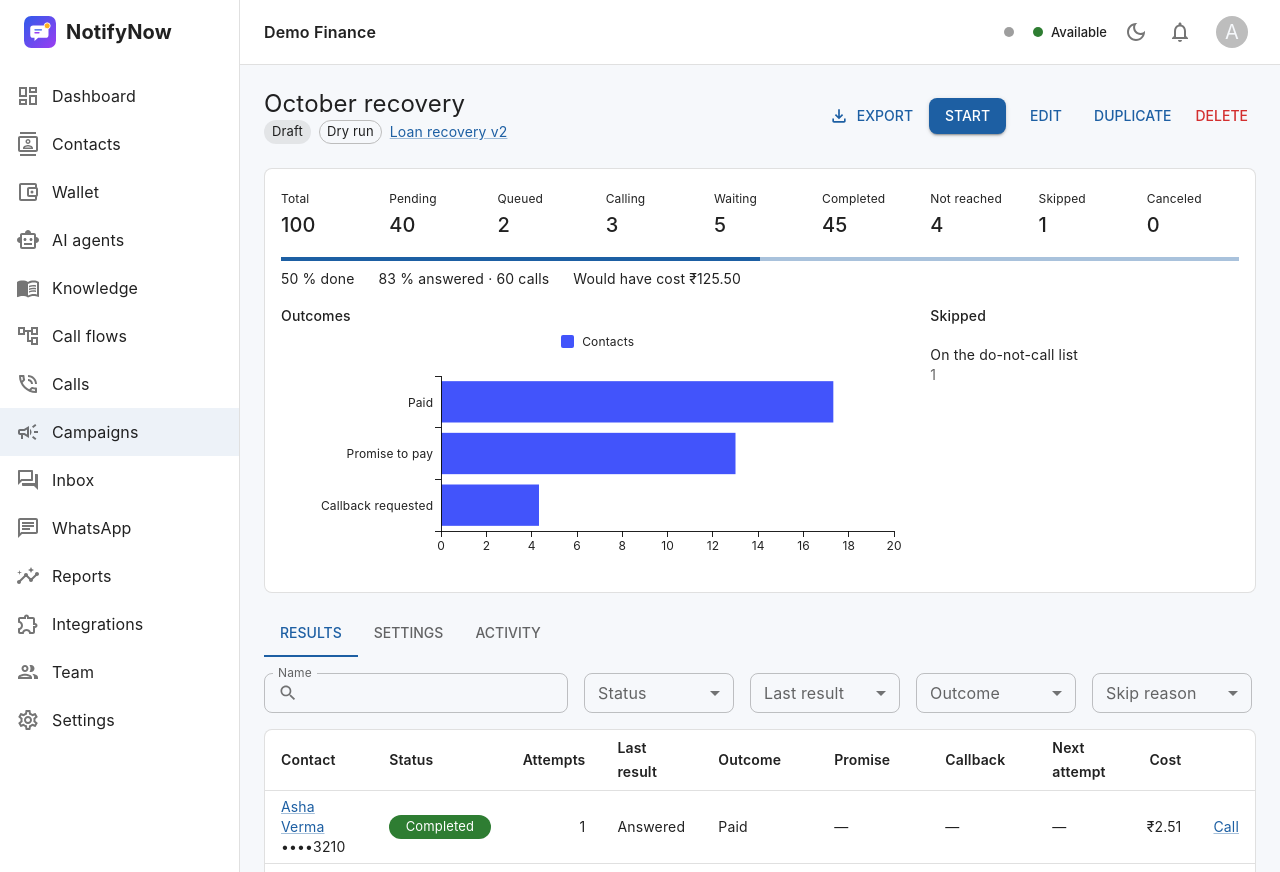
Test case: /campaigns/:id › a draft starts with an Idempotency-Key; delete asks first and goes back to the list
The width and height of the screenshot is (1280, 872).
Click the button "Start".
click(968, 116)  # box x1=929 y1=98 x2=1006 y2=134
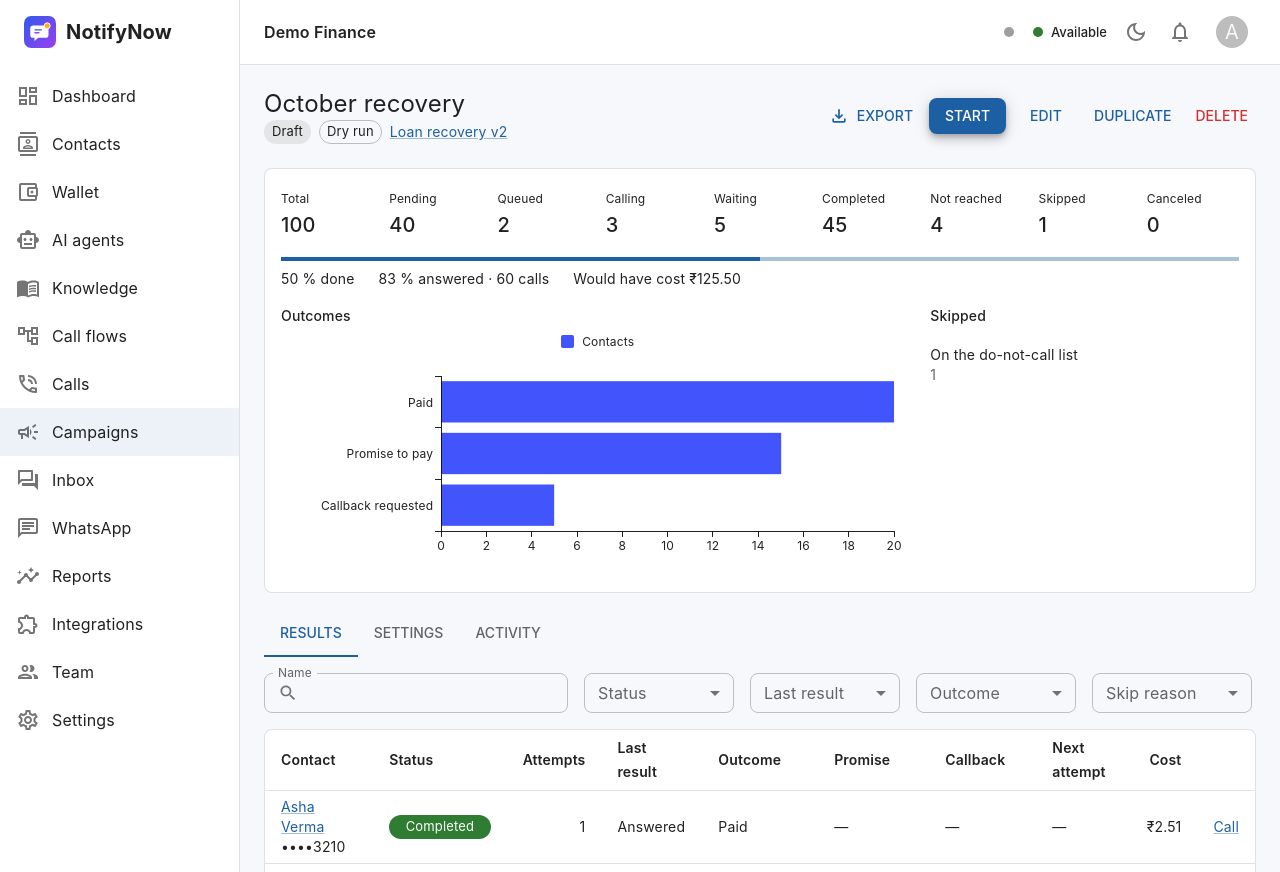
Click the button "Delete".
click(1222, 116)  # box x1=1188 y1=98 x2=1256 y2=134
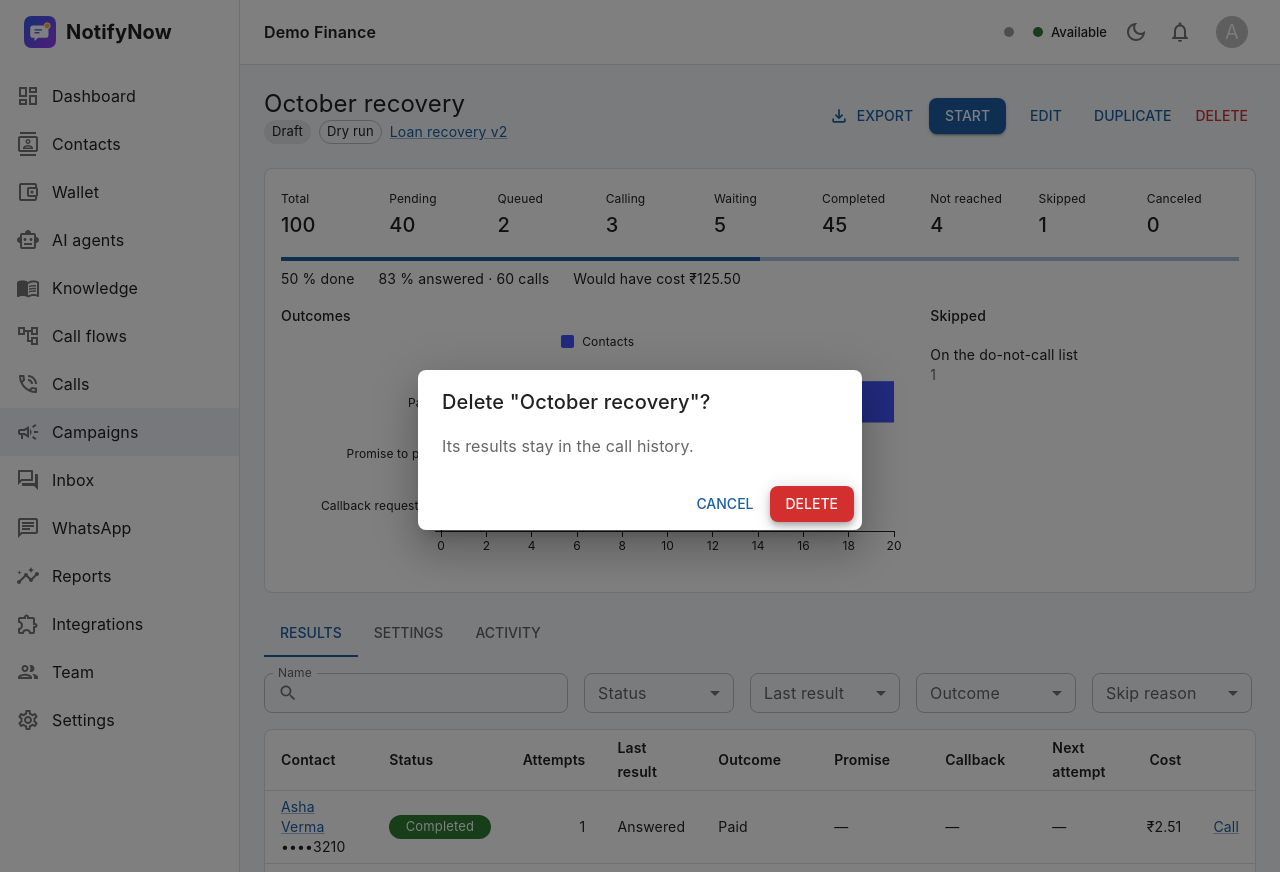
Click the button "Delete".
click(812, 504)  # box x1=770 y1=486 x2=854 y2=522
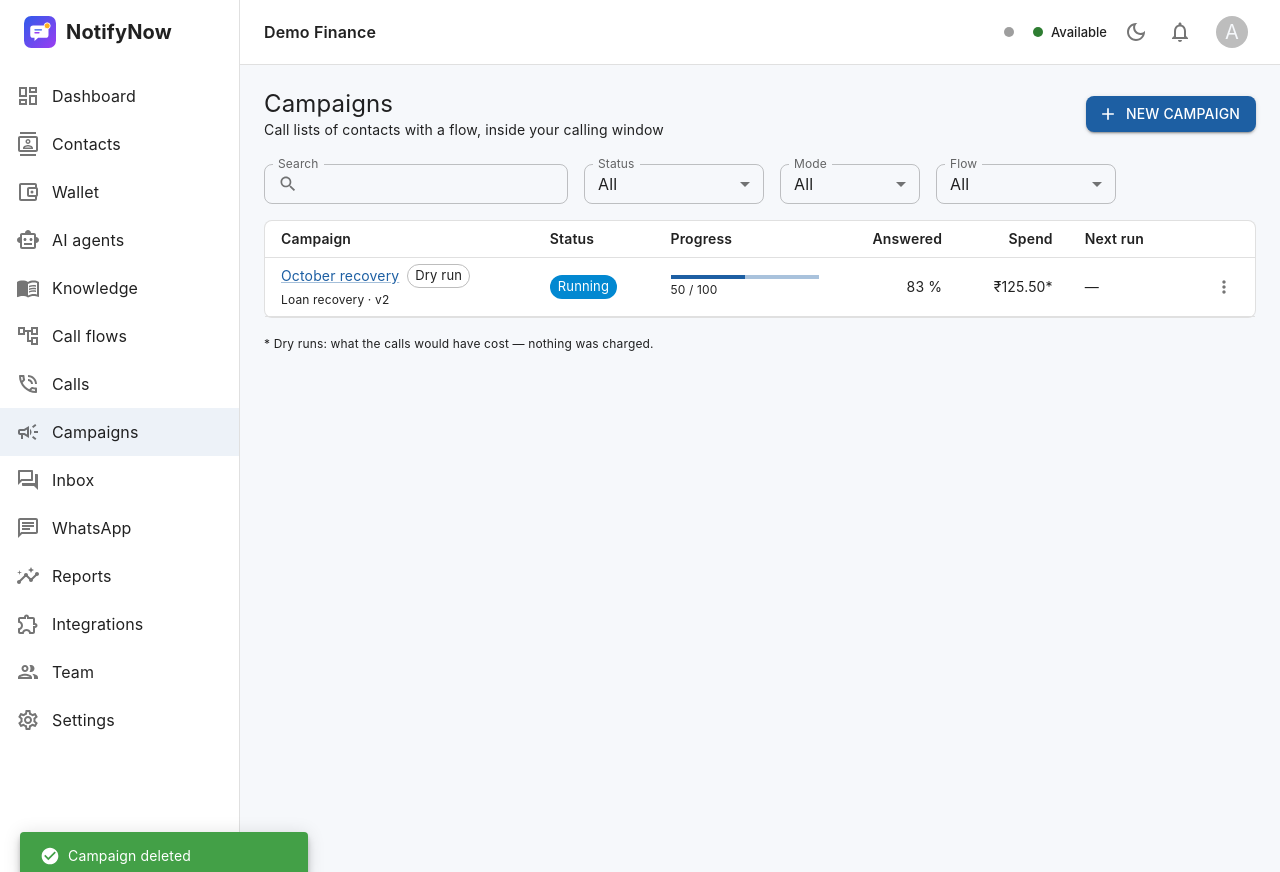
Expected: the heading "Campaigns" is shown, x1=264 y1=89 x2=393 y2=118
